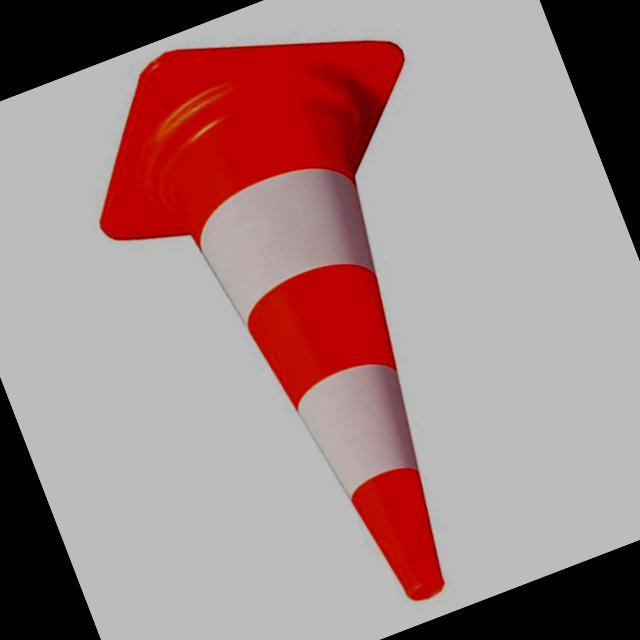cone: (81, 0, 542, 640)
